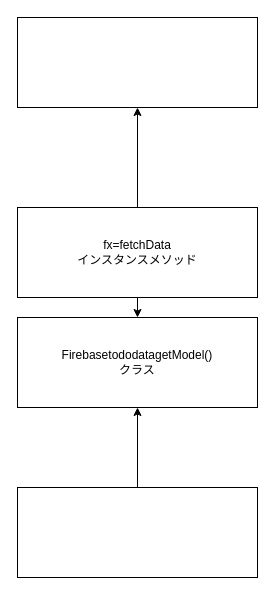
This 275x595 diagram has some shape labels left out. The box of each missing label's shape, as (x1, y1, x2, y2) in pixels:
MainView: (16, 486, 258, 578)
検索タスク allタスク カテゴリタスク: (16, 16, 258, 108)
